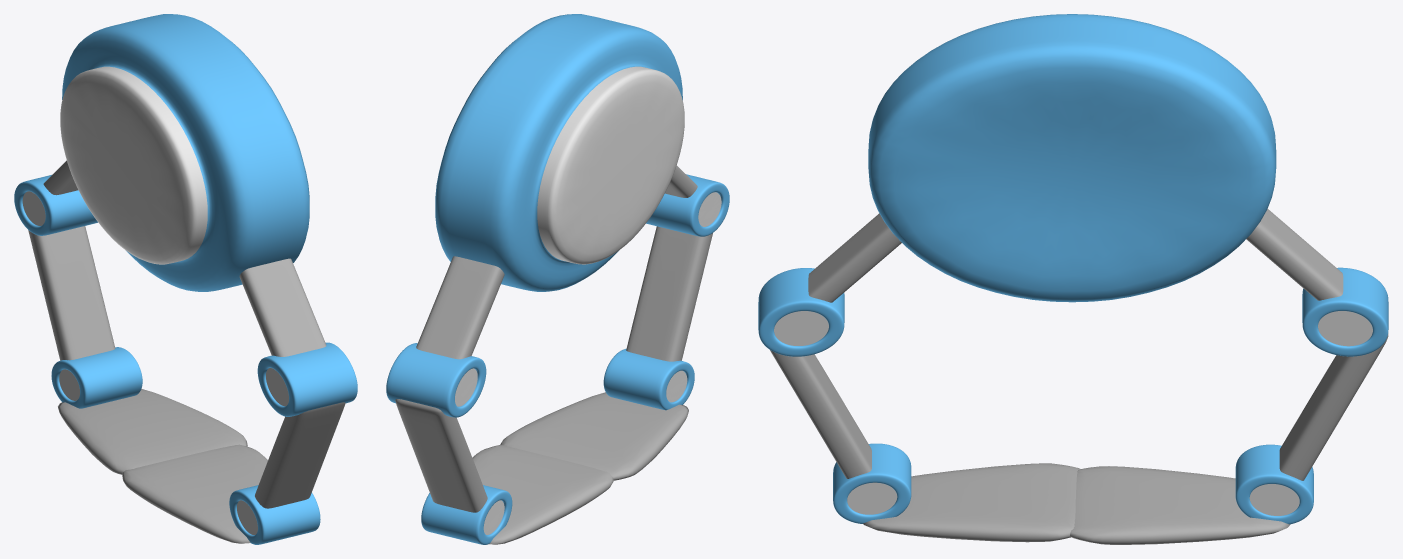
Rendered from クレーン2.fbx.
3 views of the same model, side by side, from view 1: azimuth 30°, elevation 25°; view 2: azimuth 150°, elevation 25°; view 3: azimuth 270°, elevation 25° (orthographic). The views are drawn at different scales.
Visible parts, largest first — view 1: claw_circle.002, claw_armL.001, claw_circle.003, claw_armL, claw_jointR, claw_jointL; view 2: claw_circle.003, claw_circle.002, claw_armL, claw_armL.001, claw_jointL, claw_jointR; view 3: claw_circle.002, claw_circle.003, claw_armL, claw_armL.001, claw_jointR, claw_jointL.
Part boxes in pixels (<box>): claw_circle.002: <box>67,21,309,291</box>; claw_armL.001: <box>122,258,345,543</box>; claw_circle.003: <box>60,14,302,290</box>; claw_armL: <box>28,160,247,474</box>; claw_jointR: <box>229,342,357,544</box>; claw_jointL: <box>14,175,142,408</box>; claw_circle.003: <box>435,27,684,291</box>; claw_circle.002: <box>438,14,684,291</box>; claw_armL: <box>395,256,613,544</box>; claw_armL.001: <box>500,165,712,480</box>; claw_jointL: <box>386,343,512,544</box>; claw_jointR: <box>603,174,729,410</box>; claw_circle.002: <box>868,14,1275,302</box>; claw_circle.003: <box>882,14,1276,302</box>; claw_armL: <box>1070,209,1388,544</box>; claw_armL.001: <box>770,213,1080,542</box>; claw_jointR: <box>758,268,911,523</box>; claw_jointL: <box>1235,267,1388,524</box>.
Bounding box in the file's own units: 45.22 × 137 × 162.
